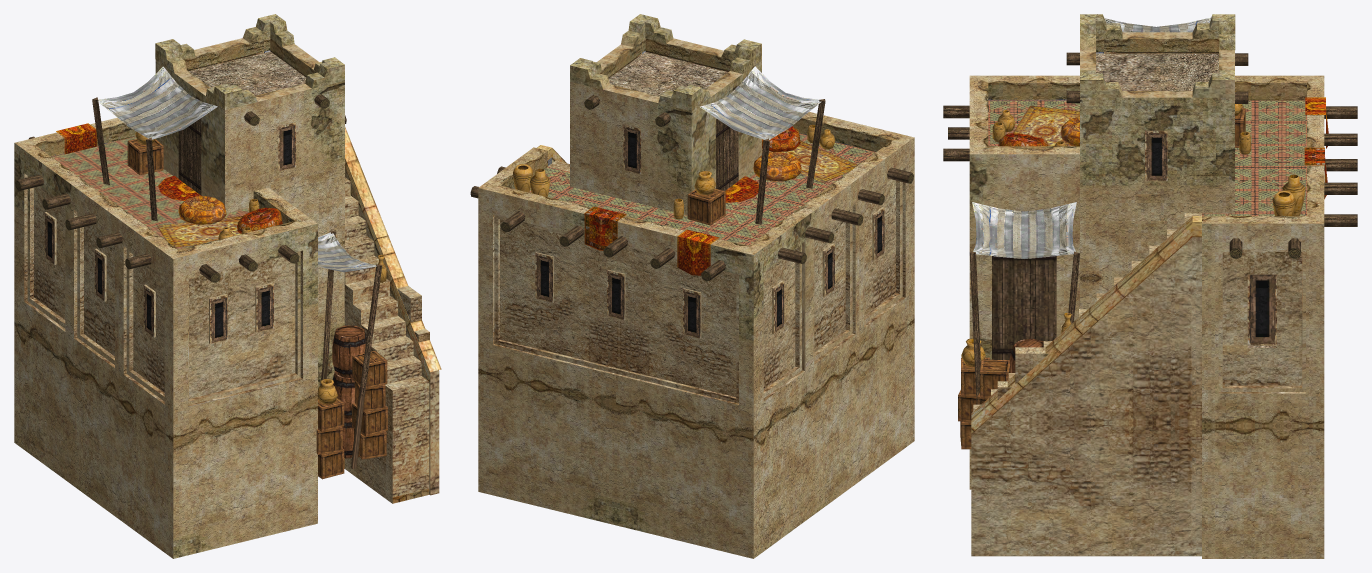
File: pers_house_b.glb
3 renders of one model, left to right at view 1: azimuth 30°, elevation 25°; view 2: azimuth 150°, elevation 25°; view 3: azimuth 270°, elevation 25°, orthographic. The views are drawn at different scales.
Bounding box in the file's own units: 15.46 × 18.9 × 15.72.
Materials: 1 (1 with a texture image).
